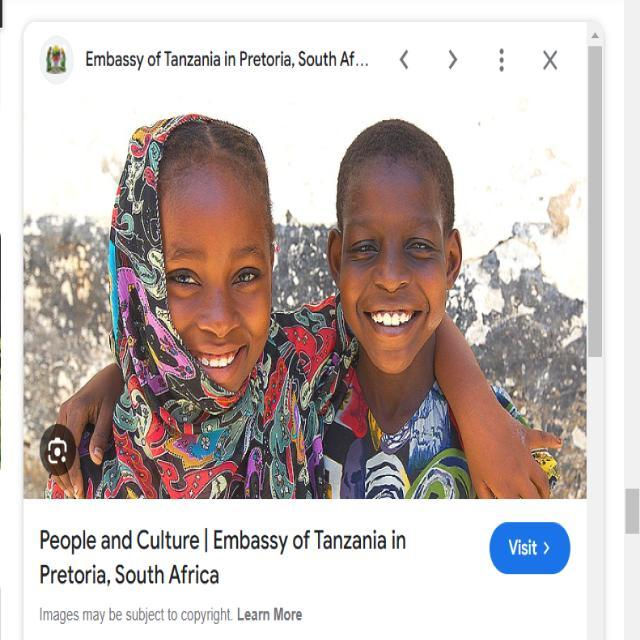face_no_mask: (162, 168, 278, 390), (331, 161, 460, 358)
